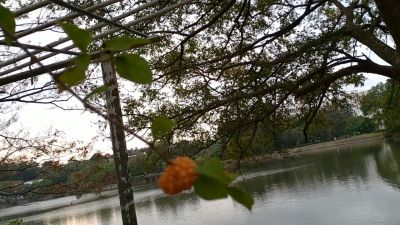eggs: (158, 156, 199, 195)
